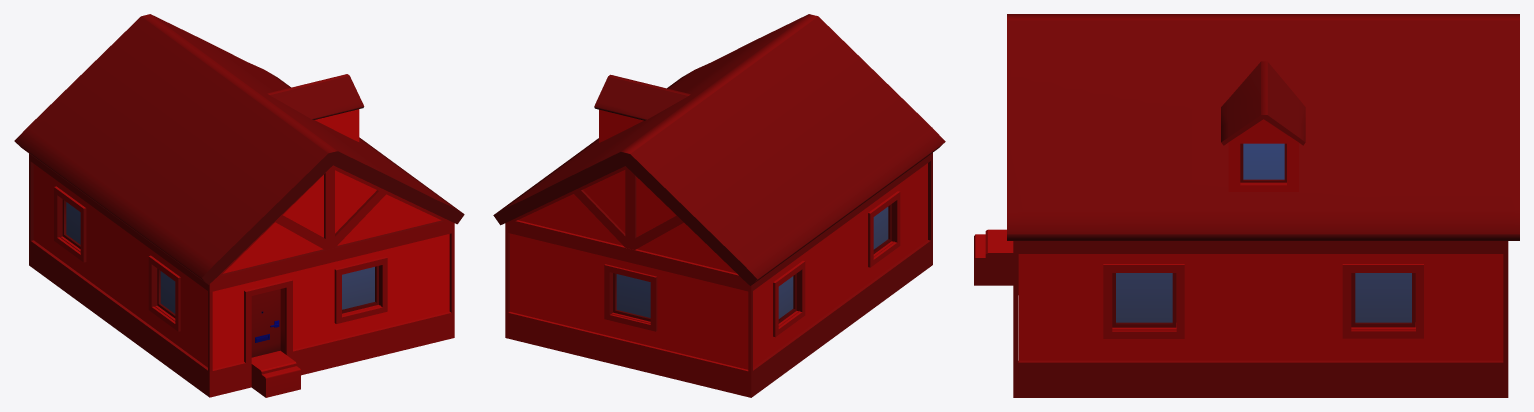
The model's file is buildings-residential-familyhome_v1.fbx.
3 renders of one model, left to right at view 1: azimuth 30°, elevation 25°; view 2: azimuth 150°, elevation 25°; view 3: azimuth 270°, elevation 25°, orthographic. The views are drawn at different scales.
Visible parts, largest first — view 1: FamilyHome_v1_base, FamilyHome_v1_windowRefl; view 2: FamilyHome_v1_base, FamilyHome_v1_windowRefl; view 3: FamilyHome_v1_base, FamilyHome_v1_windowRefl.
Boxes of the visible parts, box(x1,y1,x2,y2) form: FamilyHome_v1_base: box(14, 14, 464, 397); FamilyHome_v1_windowRefl: box(66, 202, 374, 313); FamilyHome_v1_base: box(493, 14, 945, 397); FamilyHome_v1_windowRefl: box(616, 207, 888, 318); FamilyHome_v1_base: box(974, 14, 1519, 397); FamilyHome_v1_windowRefl: box(1116, 143, 1411, 322).
Size of the model in its own units: 9.62 by 7.6 by 12.62.
